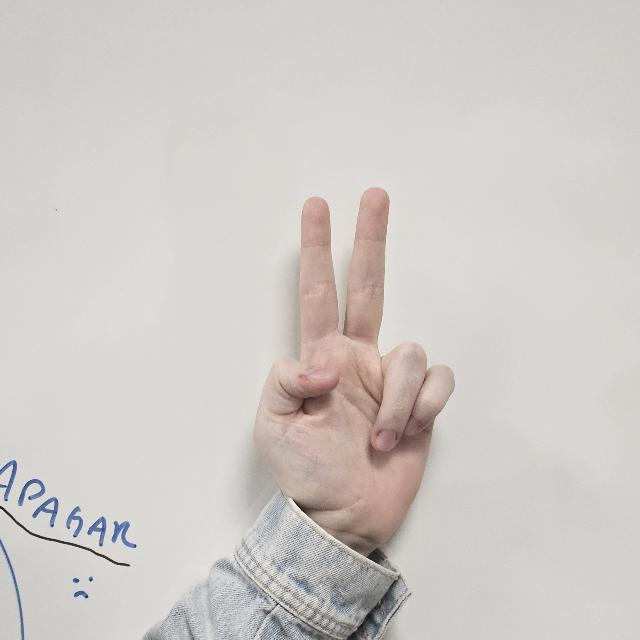Triangulo: (244, 185, 472, 542)
